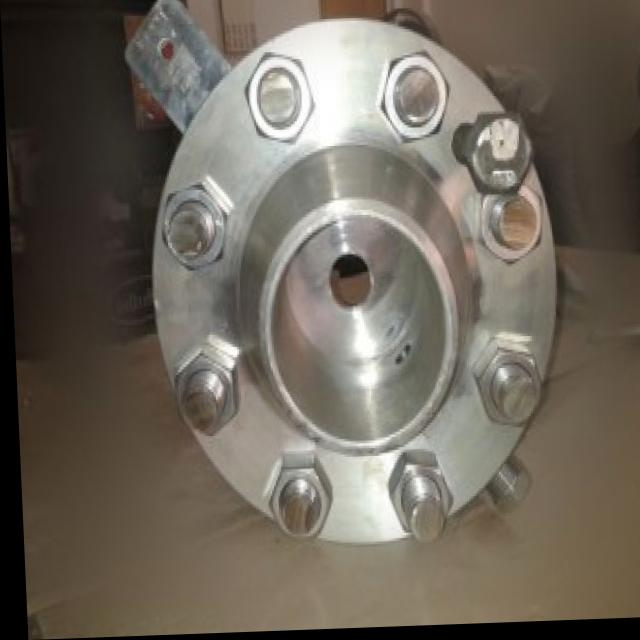Regular bolt: (244, 51, 317, 149), (157, 180, 230, 275), (260, 453, 331, 549), (462, 111, 534, 203), (377, 56, 449, 146), (469, 342, 540, 432), (383, 452, 450, 546), (171, 345, 236, 434), (476, 187, 544, 271)
